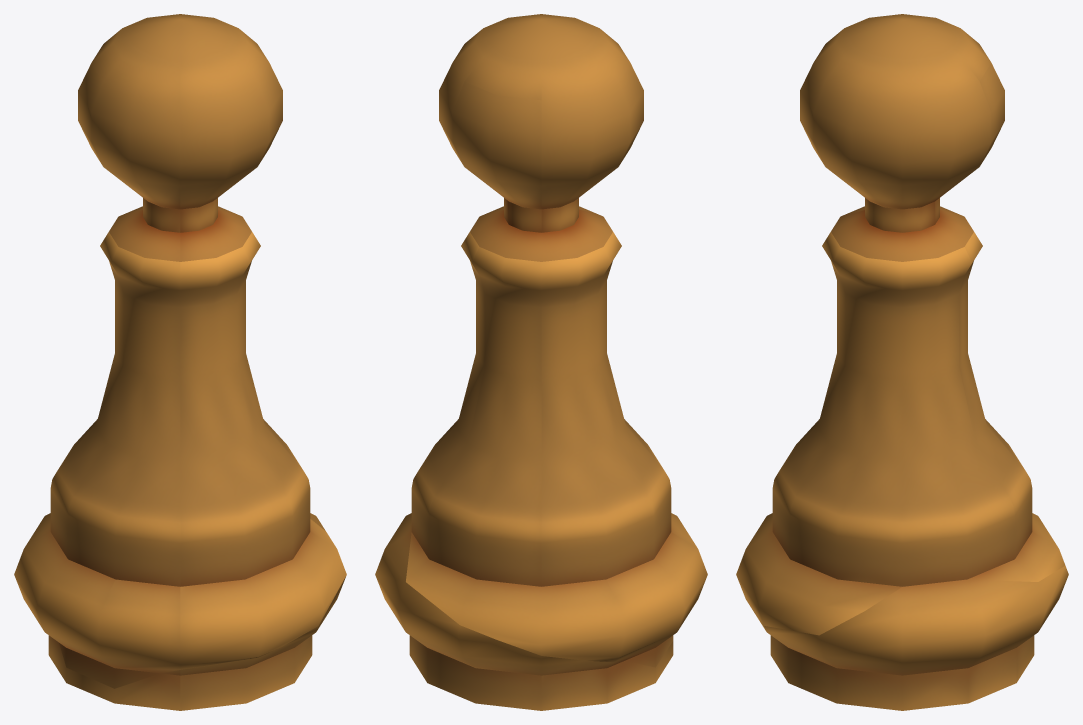
File: zhangai_1.fbx
The picture shows the model from 3 angles, left to right: view 1: azimuth 30°, elevation 25°; view 2: azimuth 150°, elevation 25°; view 3: azimuth 270°, elevation 25°; orthographic projection.
Parts seen in each view (by area): view 1: polySurface11, polySurface12; view 2: polySurface11, polySurface12; view 3: polySurface11, polySurface12.
Part boxes in pixels (<box>): polySurface11: <box>14,14,346,688</box>; polySurface12: <box>48,513,345,710</box>; polySurface11: <box>406,14,707,667</box>; polySurface12: <box>375,513,673,710</box>; polySurface11: <box>736,14,1065,635</box>; polySurface12: <box>755,565,1068,710</box>.
Bounding box in the file's own units: 67.69 × 143 × 67.69.
